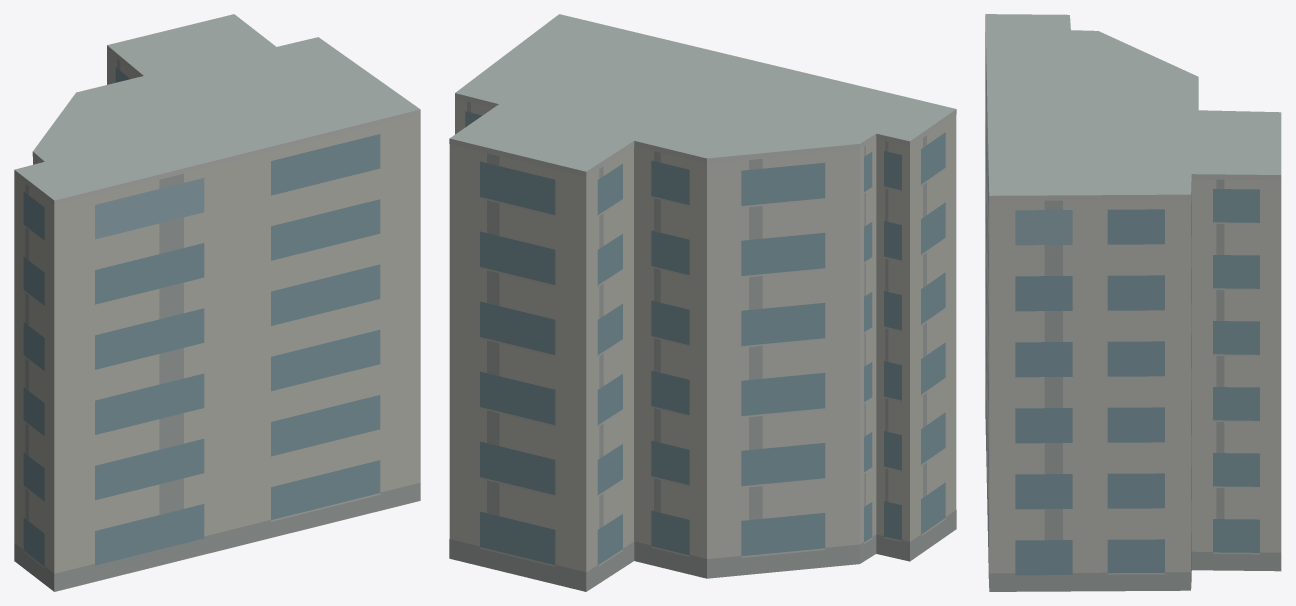
The model's file is survey-upis-32803260.glb.
3 views of the same model, side by side, from view 1: azimuth 30°, elevation 25°; view 2: azimuth 150°, elevation 25°; view 3: azimuth 270°, elevation 25° (orthographic). The views are drawn at different scales.
Visible parts, largest first — view 1: survey-upis-32803260.tmp; view 2: survey-upis-32803260.tmp; view 3: survey-upis-32803260.tmp.
Part boxes in pixels (<box>): survey-upis-32803260.tmp: <box>14,14,420,591</box>; survey-upis-32803260.tmp: <box>449,14,956,591</box>; survey-upis-32803260.tmp: <box>985,14,1281,591</box>.
Size of the model in its own units: 18.02 by 18.3 by 12.41.
